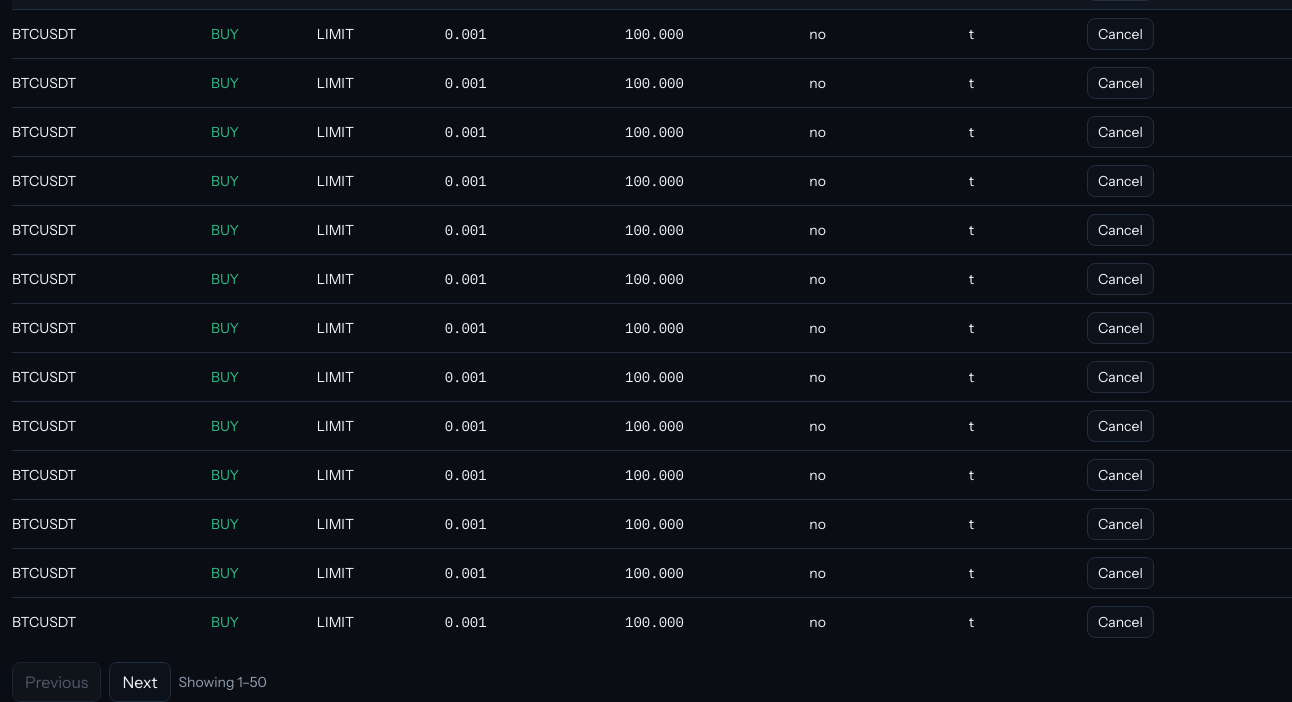
Test: OpenOrdersTable › keeps Previous on an empty trailing page and does not rewind
The image size is (1292, 702).
(page scrolled)
Expected: the text "Showing 1–50" is shown, [178, 672, 267, 692]
What coordinates should you click on to do the following:
click the button "Next"
I would click on:
 (140, 682)
Its box is [109, 662, 170, 701].
(page scrolled)
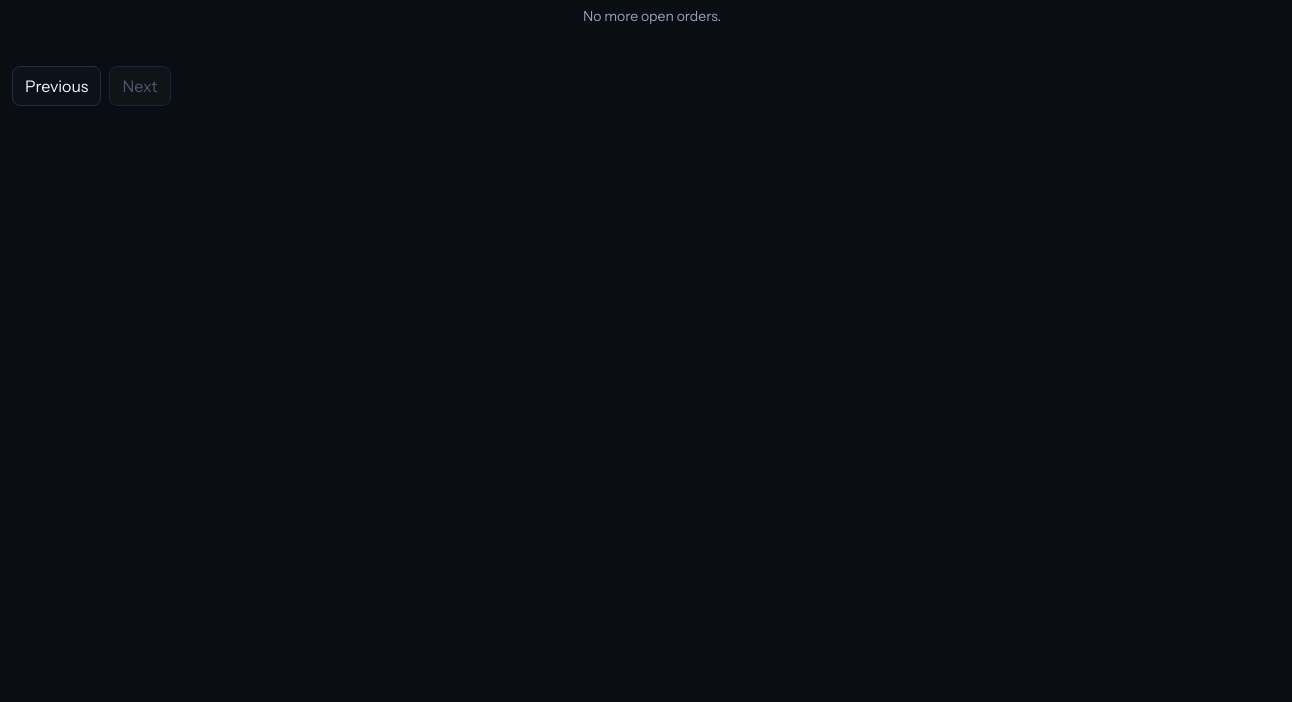
Result: the text "No more open orders." is shown at [583, 7, 721, 25]
Result: the text "BTCUSDT" is gone
Result: the button "Previous" is enabled at [12, 66, 101, 106]
